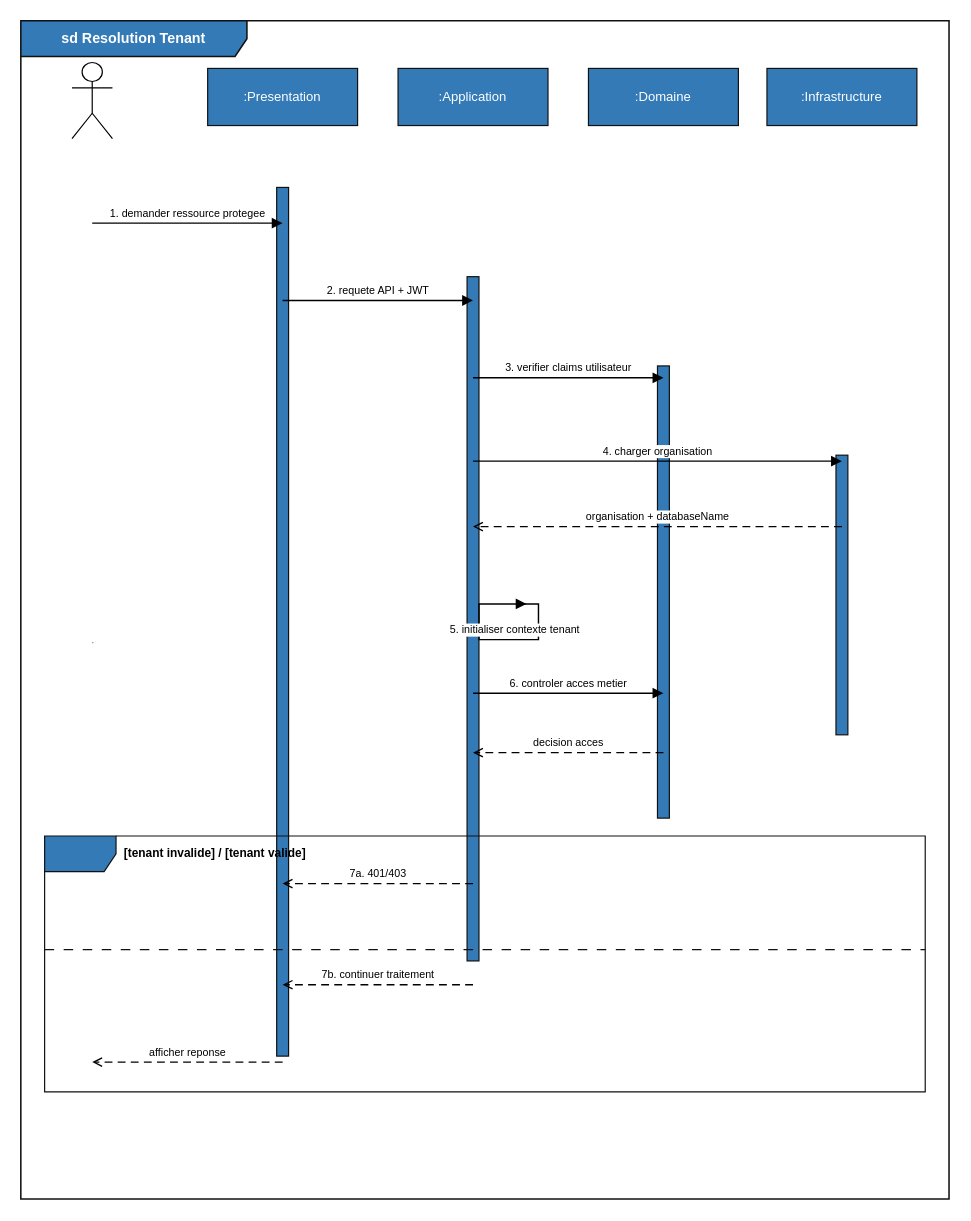
Image size: 971x1221. Some labels were removed from this diagram. Here are the shapes that lost their labels. From the top down, the box of each, then its label:
(71, 61, 112, 139): Utilisateur
(43, 835, 925, 1092): alt
